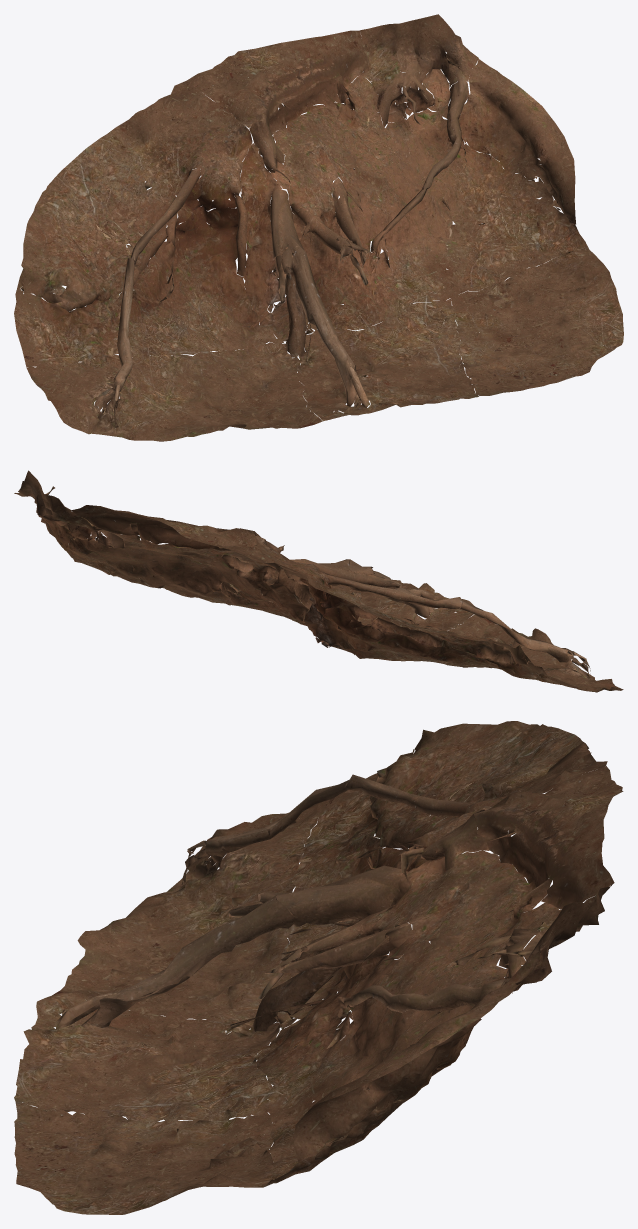
File: root_cluster_01.glb
3 renders of one model, top to bottom at view 1: azimuth 30°, elevation 25°; view 2: azimuth 150°, elevation 25°; view 3: azimuth 270°, elevation 25°, orthographic. The views are drawn at different scales.
Visible parts, largest first — view 1: model; view 2: model; view 3: model.
Boxes of the visible parts, bbox=[...] form: model: bbox=[14, 14, 623, 441]; model: bbox=[14, 470, 623, 692]; model: bbox=[14, 721, 623, 1214].
Size of the model in its own units: 4.12 by 1.51 by 2.68.
Materials: 1 (1 with a texture image).
